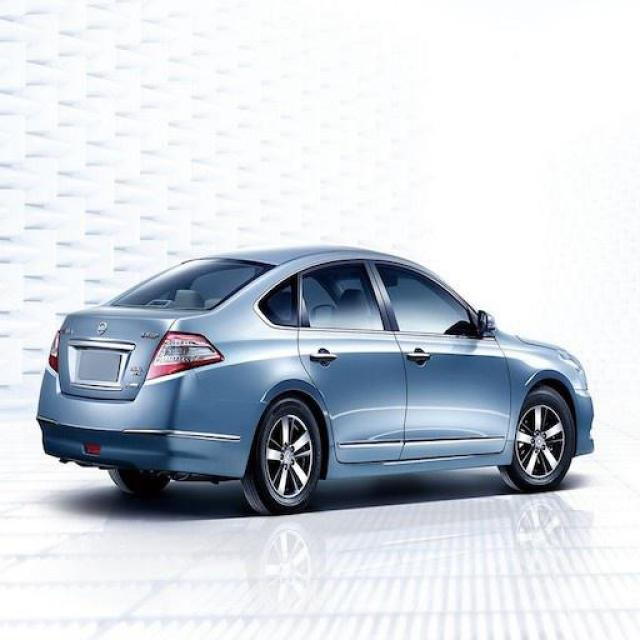back_bumper: (37, 360, 268, 479)
back_glass: (106, 258, 276, 311)
back_left_light: (47, 327, 62, 369)
back_right_door: (298, 258, 406, 464)
back_right_light: (143, 332, 226, 381)
front_right_door: (370, 258, 512, 460)
right_mirror: (478, 308, 495, 336)
tailgate: (61, 304, 209, 398)
wheel: (244, 386, 576, 514)
